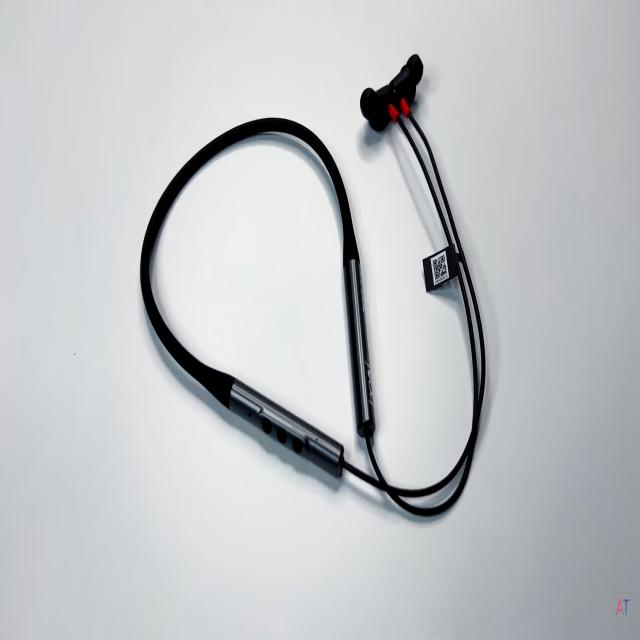Neckband: (140, 51, 487, 517)
